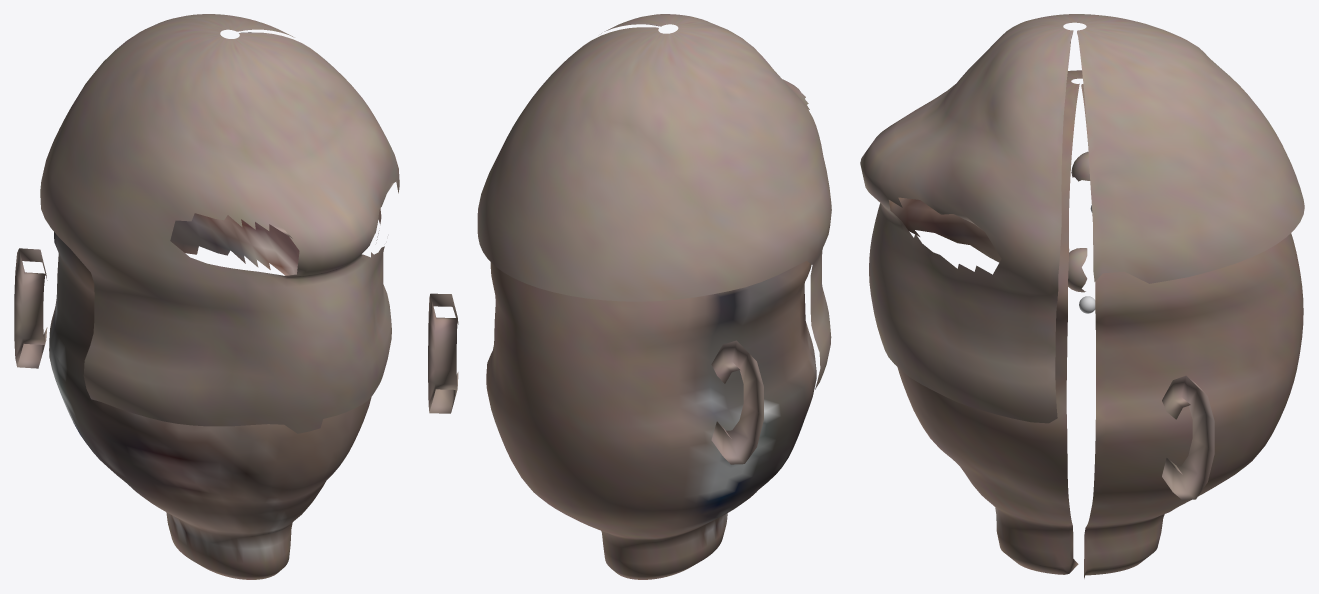
Rendered from avatar_v2_6f36ae43.glb.
3 views of the same model, side by side, from view 1: azimuth 30°, elevation 25°; view 2: azimuth 150°, elevation 25°; view 3: azimuth 270°, elevation 25° (orthographic).
Visible parts, largest first — view 1: world; view 2: world; view 3: world.
Boxes of the visible parts, x1,y1,x2,y2 form: world: (14, 14, 399, 579); world: (428, 14, 831, 579); world: (860, 14, 1304, 578).
Bounding box in the file's own units: 0.1037 × 0.1518 × 0.1151.
